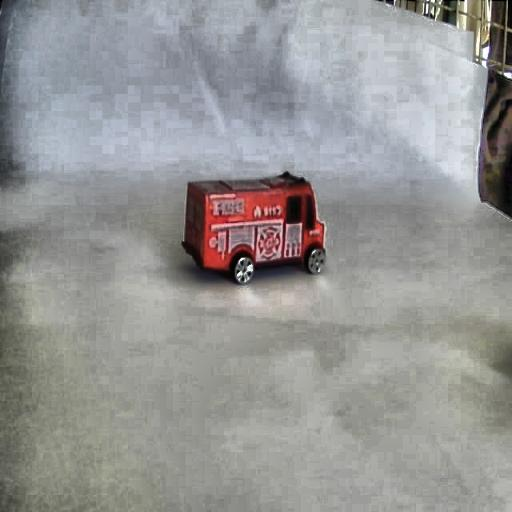fire_truck: (184, 184, 325, 276)
